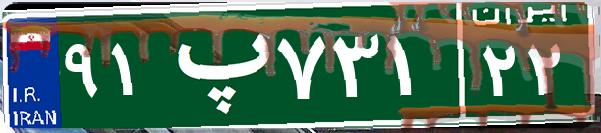1: (385, 28, 445, 110), (110, 28, 158, 105)
2: (475, 38, 525, 113), (525, 38, 570, 115)
3: (330, 28, 385, 110)
7: (273, 28, 330, 110)
9: (57, 26, 110, 107)
پ: (158, 15, 273, 115)
